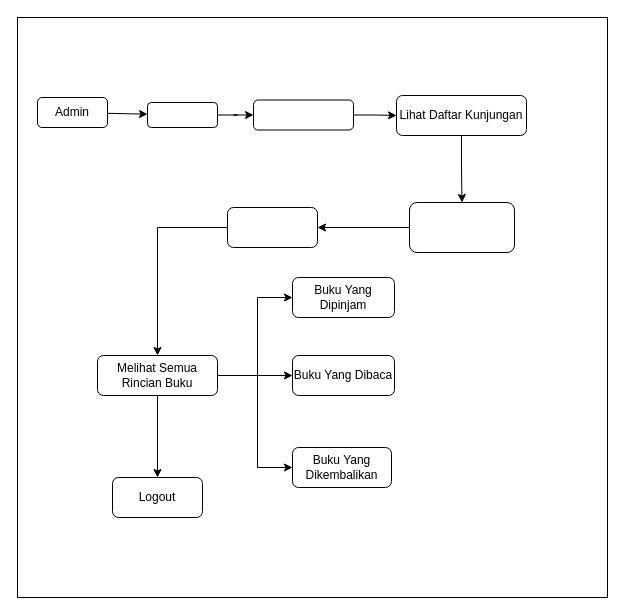
Image size: 625x615. Some labels were removed from this diagram. The centre of each missing label's shape, as x and y in pixels:
Halaman Utama: point (303, 114)
Kembali: point (272, 227)
Lihat Riwayat Pengunjung: point (461, 227)
Login: point (182, 115)
